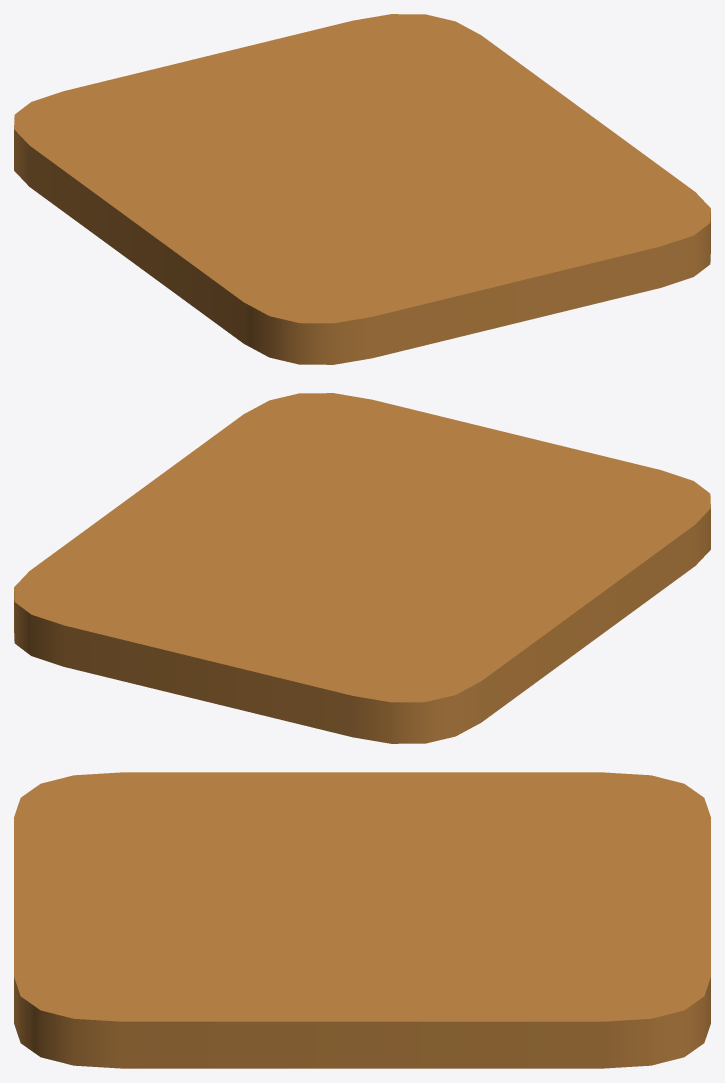
The model's file is sandfield01_s01.FBX.
The picture shows the model from 3 angles, top to bottom: view 1: azimuth 30°, elevation 25°; view 2: azimuth 150°, elevation 25°; view 3: azimuth 270°, elevation 25°; orthographic projection. The views are drawn at different scales.
Parts seen in each view (by area): view 1: sandfield01_s01; view 2: sandfield01_s01; view 3: sandfield01_s01.
Part boxes in pixels (x1,y1,x2,y2): sandfield01_s01: [14, 14, 710, 364]; sandfield01_s01: [14, 393, 710, 743]; sandfield01_s01: [14, 772, 710, 1068].
Bounding box in the file's own units: 277 × 328 × 24.31.
1 material, 1 textured.
